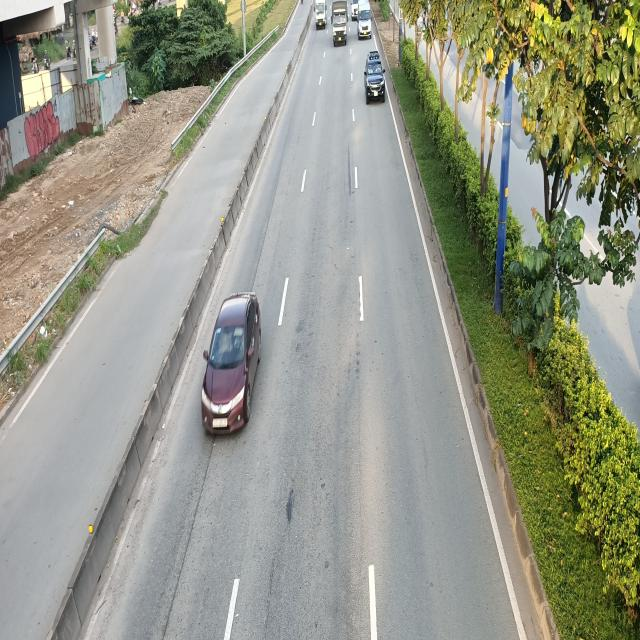car: (202, 292, 262, 433), (365, 51, 387, 101)
truck: (331, 0, 348, 48)
van: (357, 5, 372, 39)
